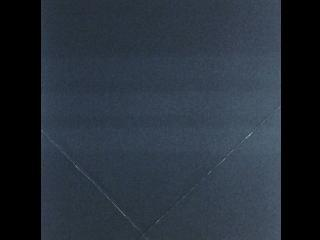crack: (139, 103, 283, 240), (40, 127, 148, 240)
